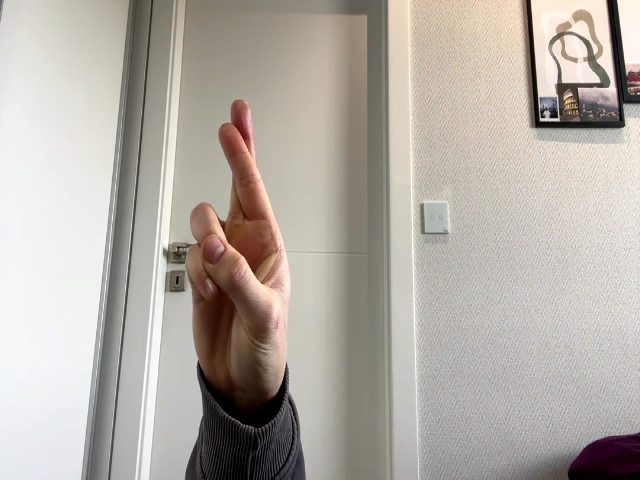R: (185, 100, 291, 399)
